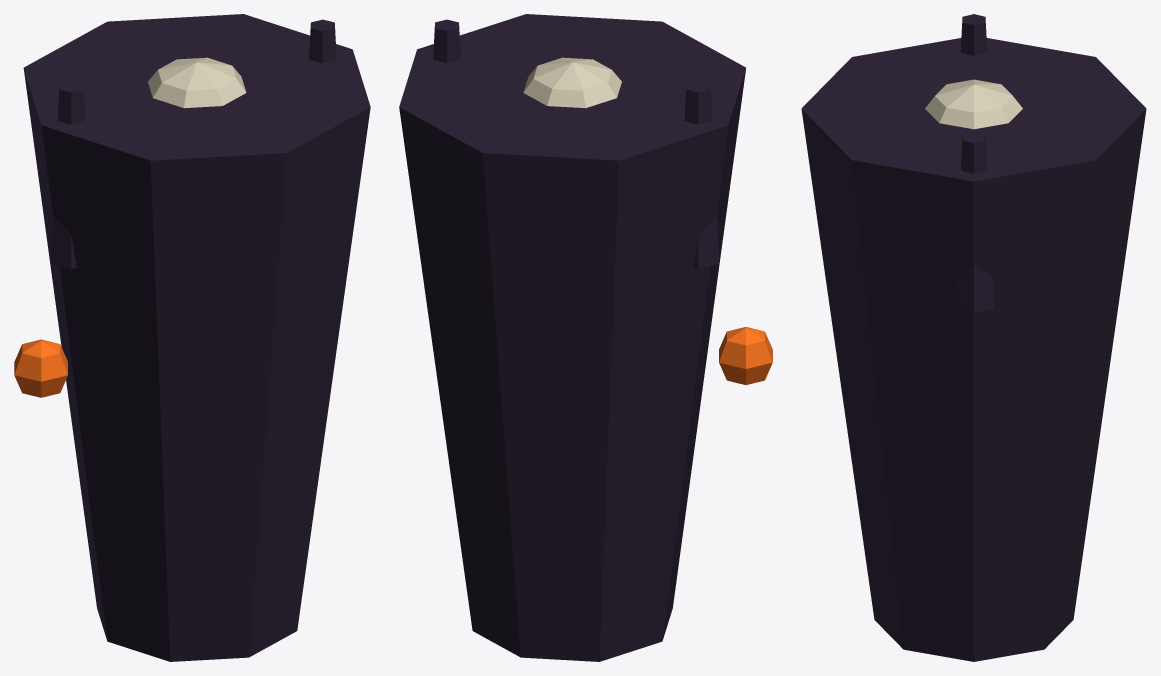
Rendered from wraith.obj.
3 renders of one model, left to right at view 1: azimuth 30°, elevation 25°; view 2: azimuth 150°, elevation 25°; view 3: azimuth 270°, elevation 25°, orthographic. The views are drawn at different scales.
Visible parts, largest first — view 1: wraith_shroud, wraith_mask, wraith_lantern, wraith_sleeve_l, wraith_sleeve_r; view 2: wraith_shroud, wraith_mask, wraith_lantern, wraith_sleeve_l, wraith_sleeve_r; view 3: wraith_shroud, wraith_mask, wraith_sleeve_r, wraith_sleeve_l.
Boxes of the visible parts, x1=… form: wraith_shroud: x1=23, y1=14, x2=370, y2=661; wraith_mask: x1=148, y1=57, x2=246, y2=108; wraith_lantern: x1=14, y1=339, x2=67, y2=397; wraith_sleeve_l: x1=50, y1=81, x2=84, y2=268; wraith_sleeve_r: x1=309, y1=19, x2=336, y2=63; wraith_shroud: x1=399, y1=14, x2=745, y2=661; wraith_mask: x1=523, y1=57, x2=621, y2=108; wraith_lantern: x1=719, y1=327, x2=772, y2=384; wraith_sleeve_l: x1=684, y1=81, x2=719, y2=268; wraith_sleeve_r: x1=433, y1=19, x2=460, y2=63; wraith_shroud: x1=801, y1=38, x2=1146, y2=661; wraith_mask: x1=925, y1=79, x2=1022, y2=129; wraith_sleeve_r: x1=954, y1=132, x2=993, y2=312; wraith_sleeve_l: x1=961, y1=14, x2=986, y2=55.
Size of the model in its own units: 1.16 by 1.8 by 1.04.
